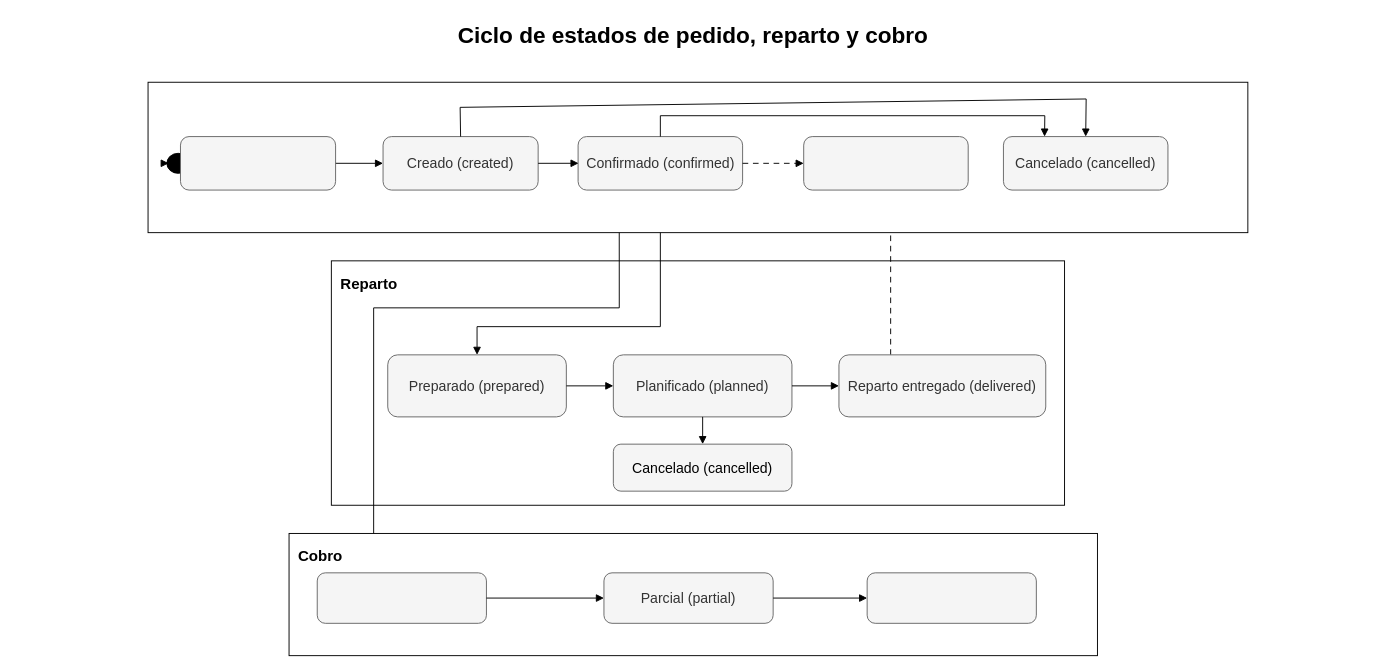
The diagram is 1386 pixels wide and 672 high, and some of its shapes have lost their labels. The shapes that lost their labels are listed below. From the top down, each one's box as (x1, y1, x2, y2) in pixels, then its label:
(180, 136, 336, 190): Borrador (draft)
(147, 81, 1248, 233): Pedido
(803, 136, 968, 190): Entregado (delivered)
(316, 572, 486, 623): Pendiente (pending)
(866, 572, 1036, 623): Pagado (paid)
